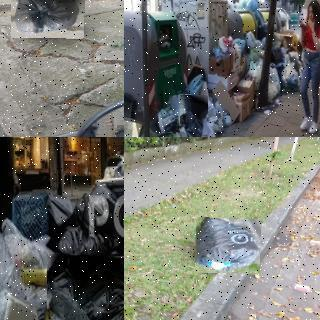Garbage: (46, 254, 124, 320), (195, 218, 261, 274), (10, 0, 84, 38), (179, 94, 207, 137)
